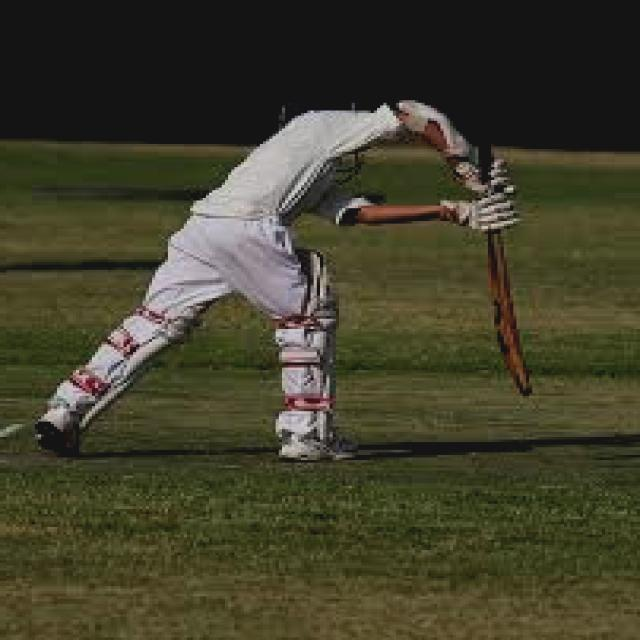bat: (434, 163, 547, 422)
